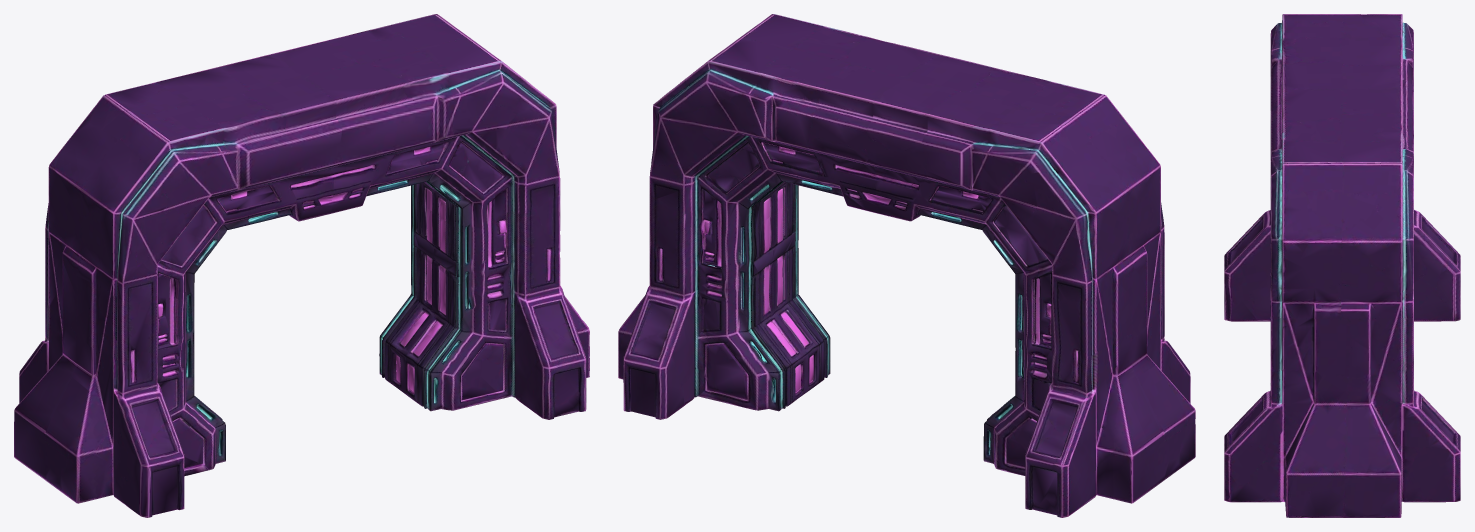
The model's file is entrance-arch.glb.
3 renders of one model, left to right at view 1: azimuth 30°, elevation 25°; view 2: azimuth 150°, elevation 25°; view 3: azimuth 270°, elevation 25°, orthographic. The views are drawn at different scales.
Parts seen in each view (by area): view 1: mesh_node; view 2: mesh_node; view 3: mesh_node.
Part boxes in pixels (x1=…): mesh_node: x1=14, y1=14, x2=589, y2=517; mesh_node: x1=618, y1=14, x2=1195, y2=517; mesh_node: x1=1224, y1=14, x2=1460, y2=517.
Size of the model in its own units: 1.9 by 1.2 by 0.8215.
Materials: 1 (1 with a texture image).
